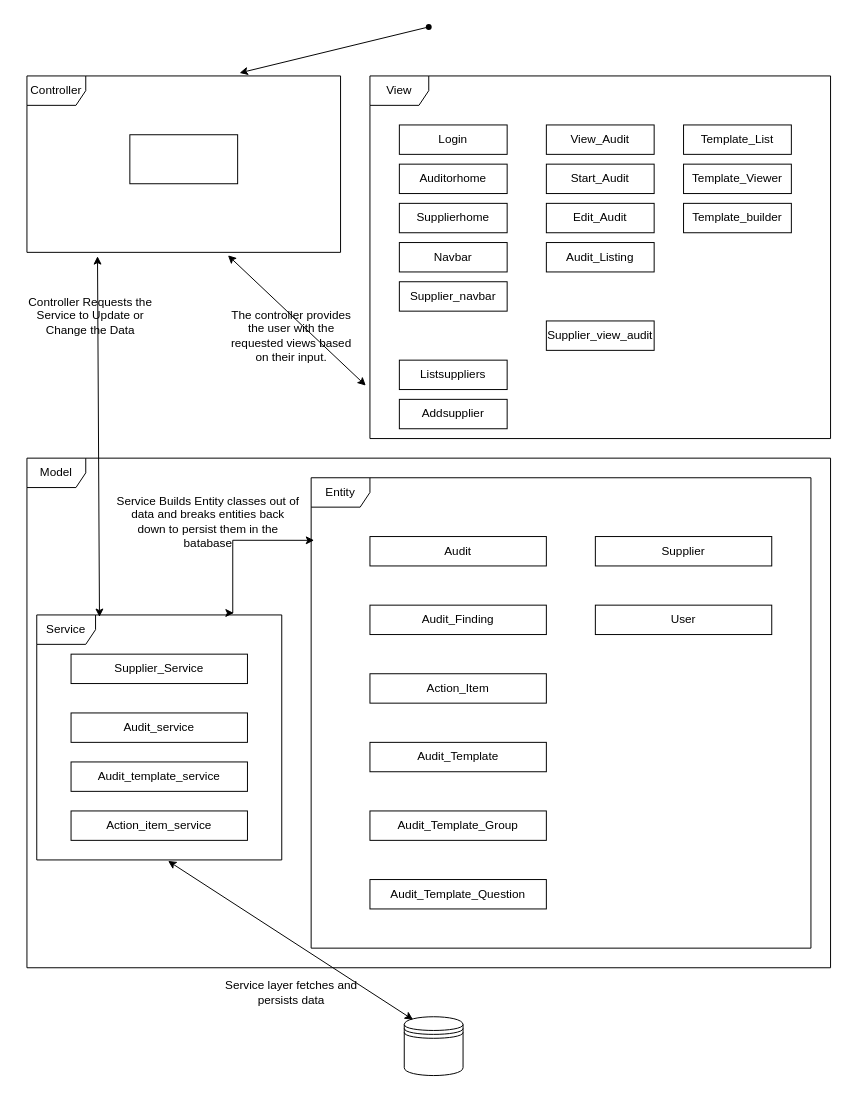
Some shapes in this 848 by 1093 pixel diagram are drawn without their labels. The centre of each missing label's shape, as x and y in pixels:
"App" belongs at (x=183, y=159).
"PostGres Database" belongs at (x=433, y=1046).
